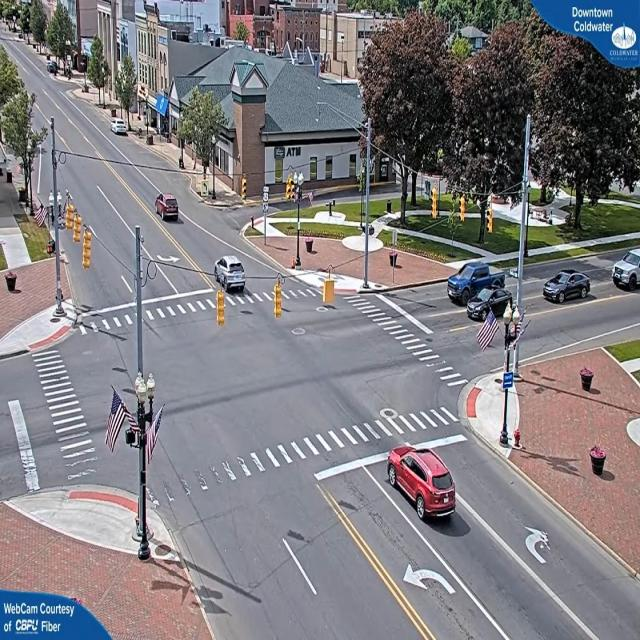car: (389, 447, 457, 521), (446, 262, 499, 305), (544, 268, 594, 304), (468, 285, 517, 321), (215, 254, 248, 290), (611, 250, 640, 290), (154, 194, 182, 224), (112, 120, 129, 136)
